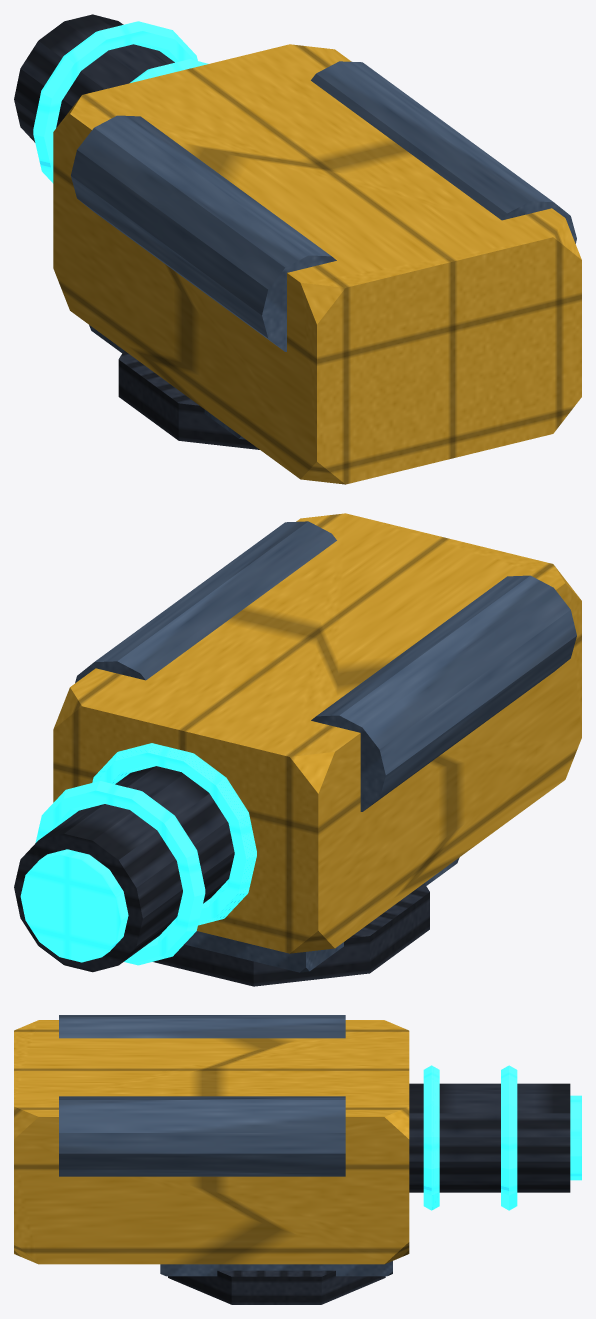
File: eq_heavy_mining_beam.glb
3 views of the same model, one above another, from view 1: azimuth 30°, elevation 25°; view 2: azimuth 150°, elevation 25°; view 3: azimuth 270°, elevation 25° (orthographic). The views are drawn at different scales.
Visible parts, largest first — view 1: eq_heavy_mining_beam; view 2: eq_heavy_mining_beam; view 3: eq_heavy_mining_beam.
Boxes of the visible parts, box(x1,y1,x2,y2) form: eq_heavy_mining_beam: box(14, 14, 581, 484); eq_heavy_mining_beam: box(14, 513, 581, 986); eq_heavy_mining_beam: box(14, 1015, 581, 1304).
Bounding box in the file's own units: 1.76 × 1.42 × 3.67.
1 material, 1 textured.
